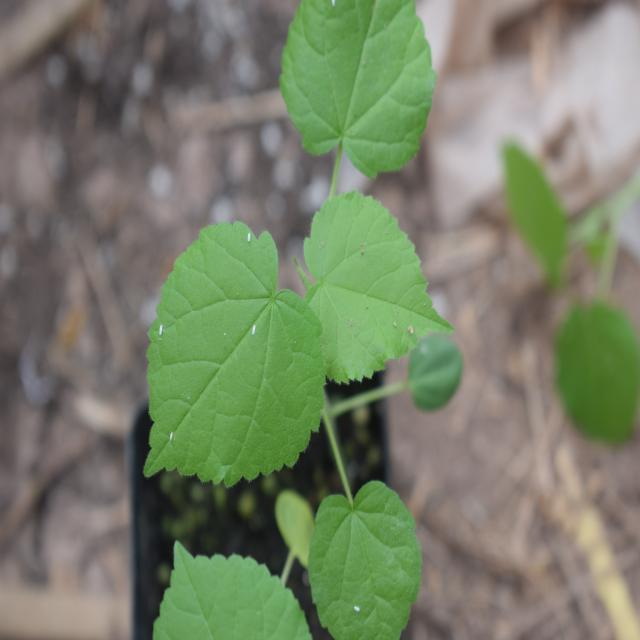abutilon theophrasti: (136, 2, 448, 473)
